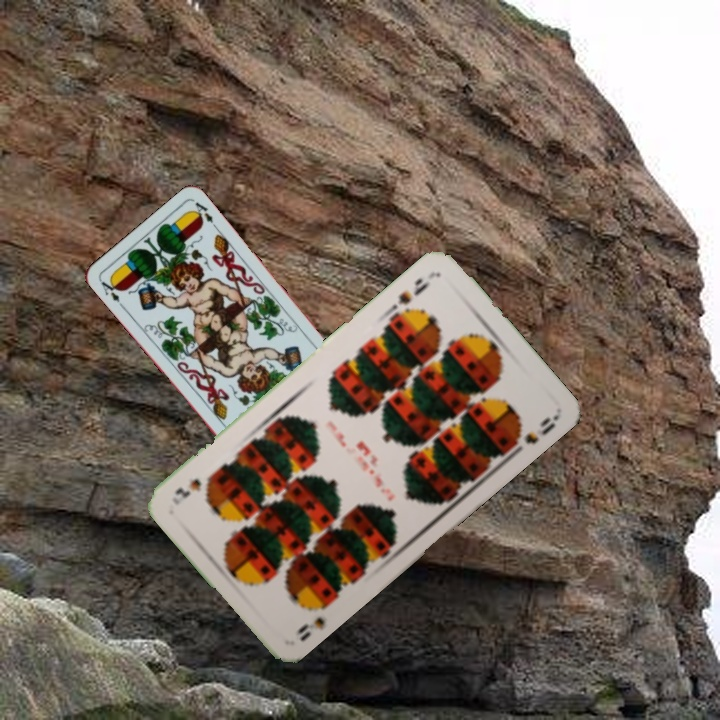EA: (96, 275, 124, 305)
S9: (293, 597, 334, 644), (393, 274, 433, 308)
